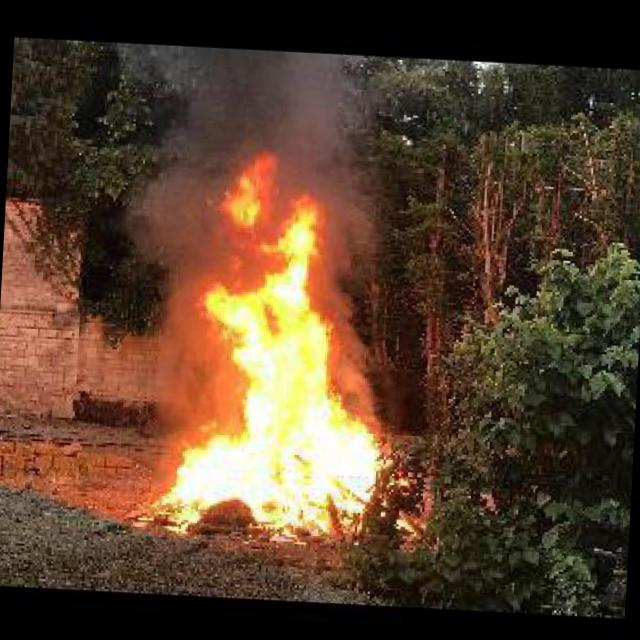fire: (148, 151, 404, 548)
smoke: (115, 43, 378, 175)
